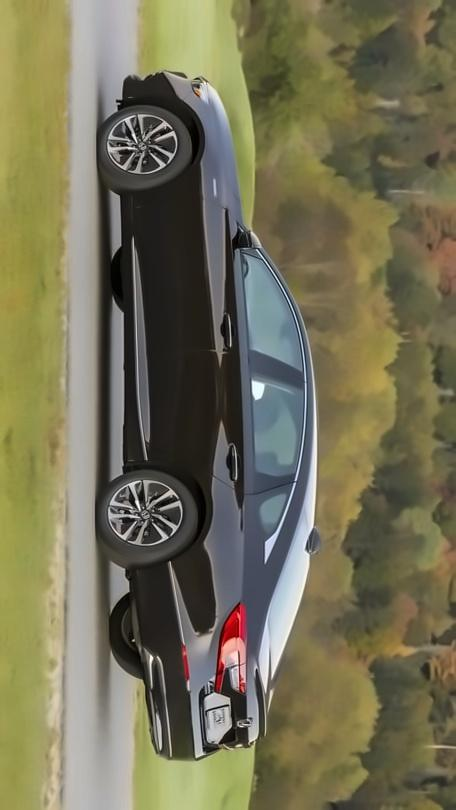Fender - -F-L-: (127, 95, 244, 232)
Fender - -R-L-: (128, 446, 287, 614)
Front bumper: (114, 65, 195, 116)
Passenger-s door - -F-L-: (126, 228, 351, 382)
Passenger-s door - -R-L-: (112, 371, 335, 497)
Rear bumper: (121, 556, 215, 766)
Rear light - -L-: (214, 600, 258, 698)
Side mirror - -L-: (233, 229, 264, 252)
Side mirror - -R-: (111, 183, 184, 482)
